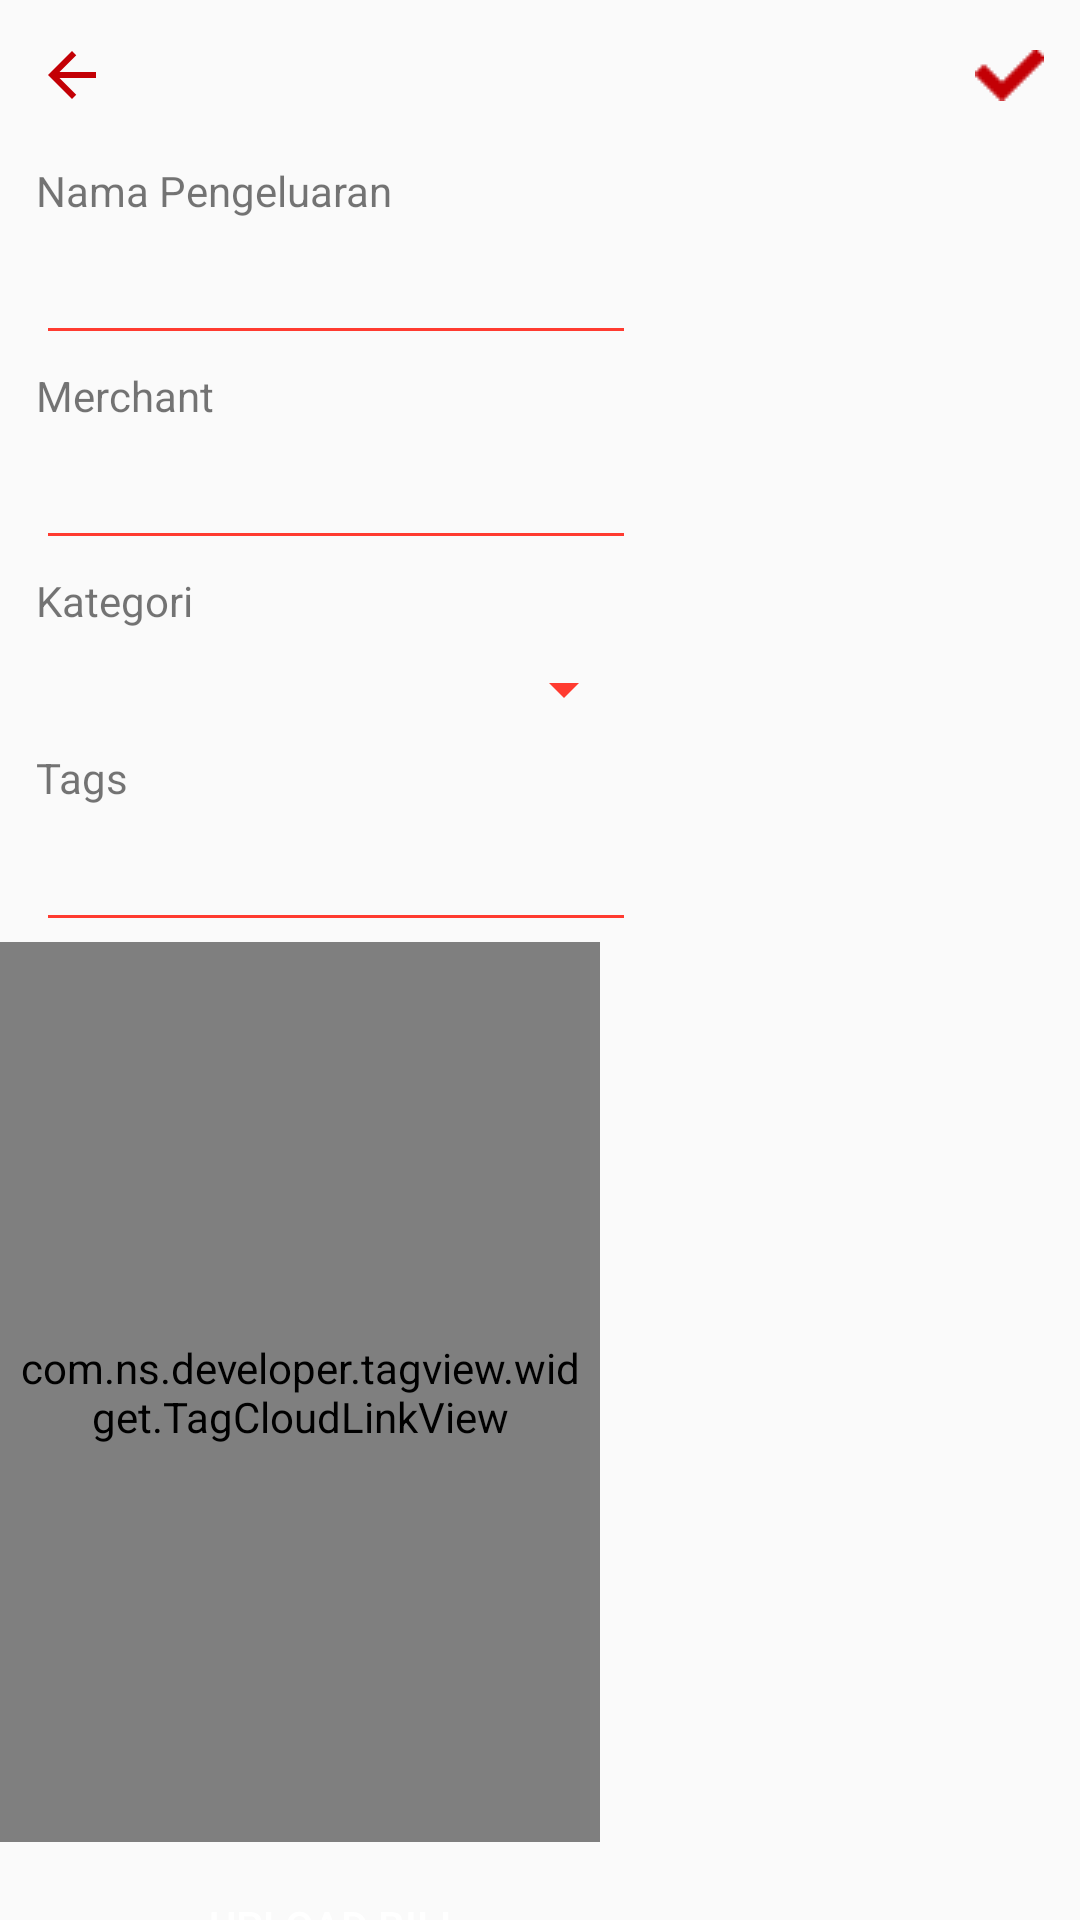

Icon bounding boxes for this 1080×1920 phone screenshot, format (x1, y1, x2, y2):
arrow back: (48, 51, 96, 99)
check: (975, 50, 1044, 101)
